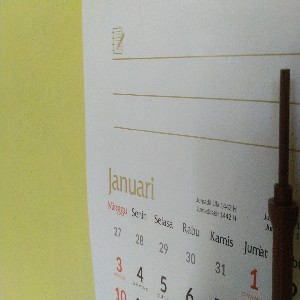obeng: (267, 67, 300, 300)
